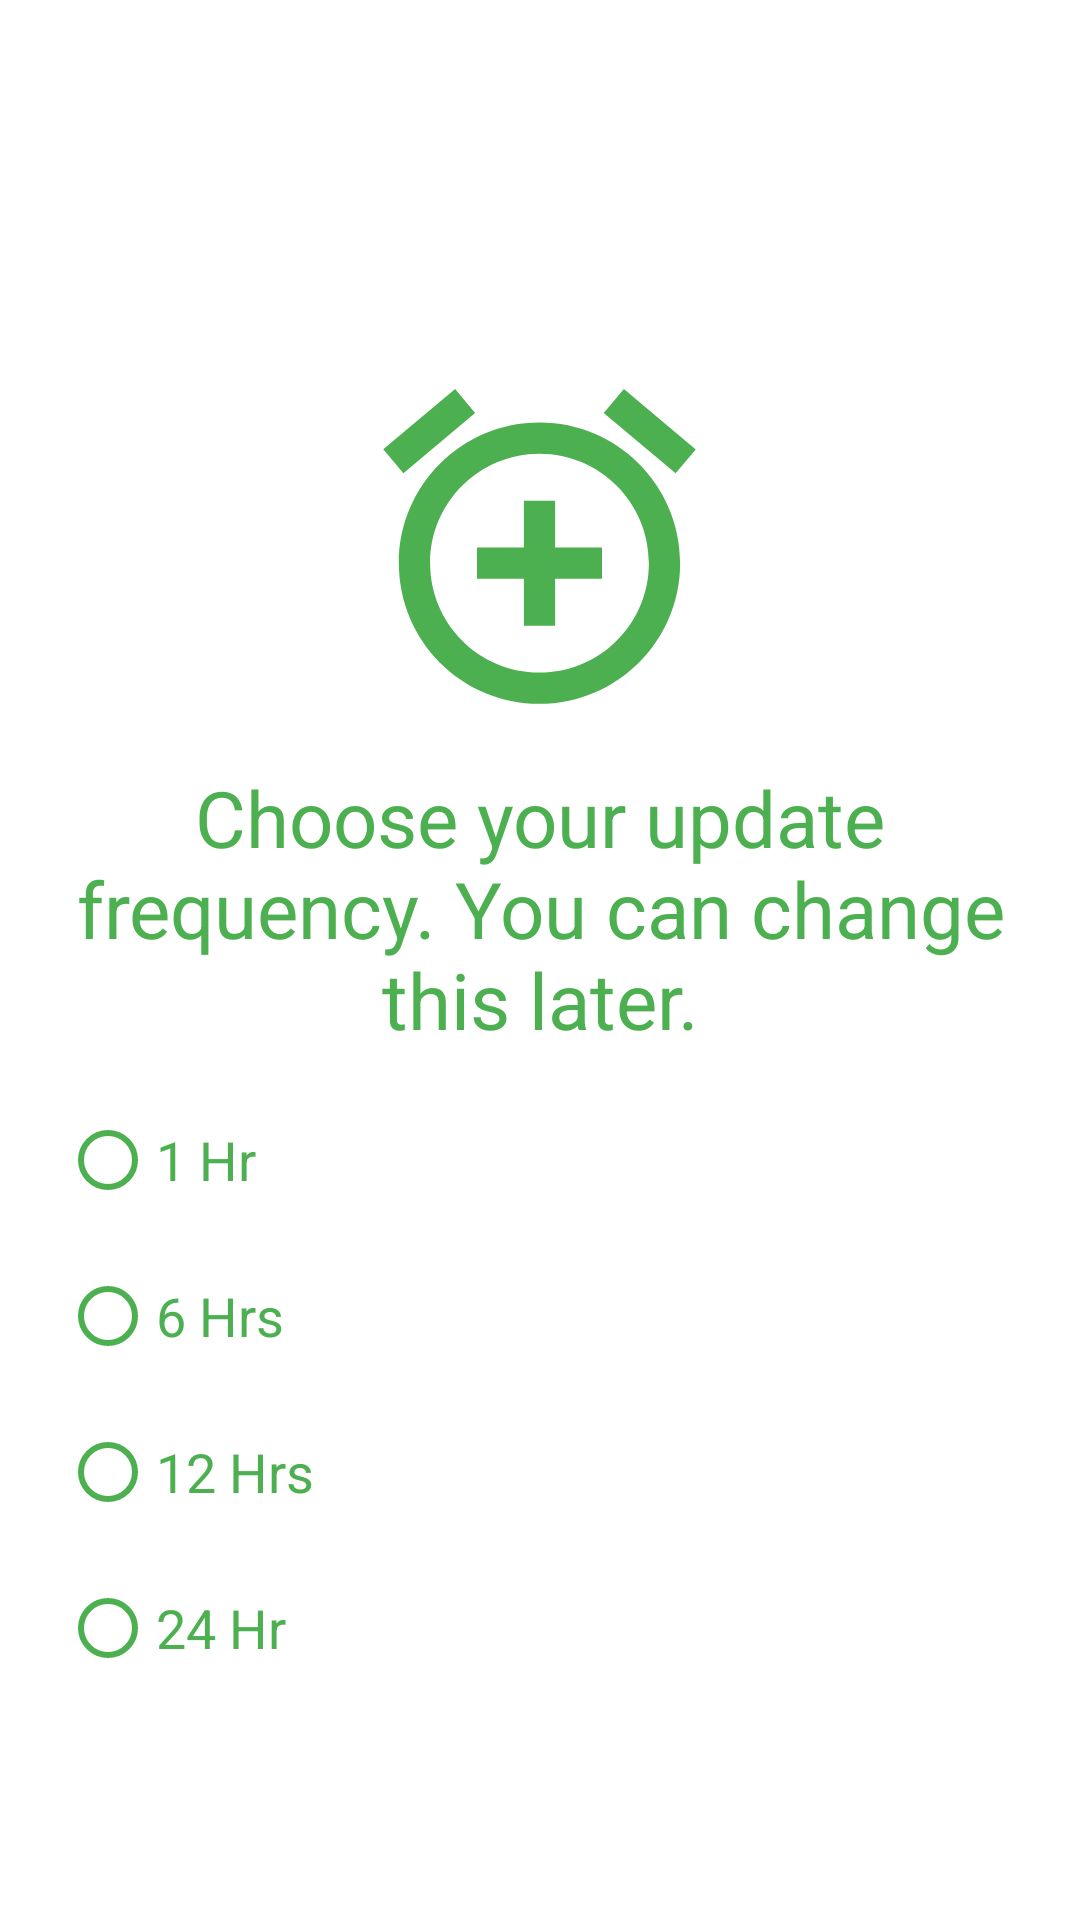

Named icons in this screenshot (1080px x 1920px) and their centers, (x,y):
add alarm: (539,546)
